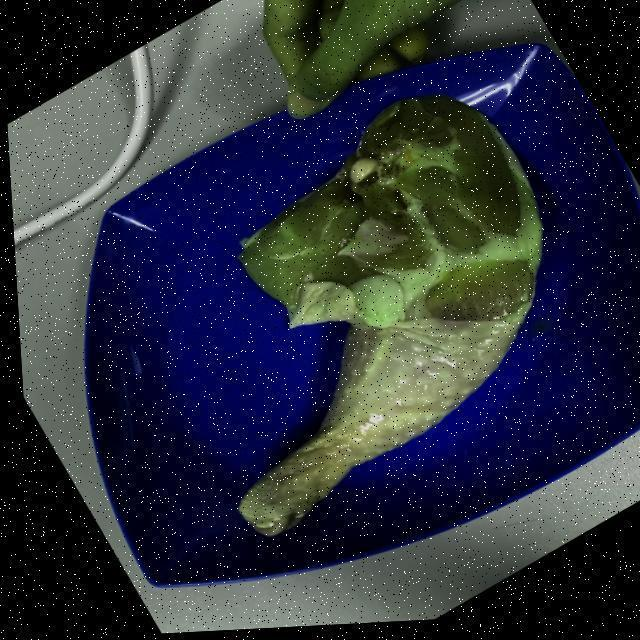quater: (248, 91, 536, 542)
